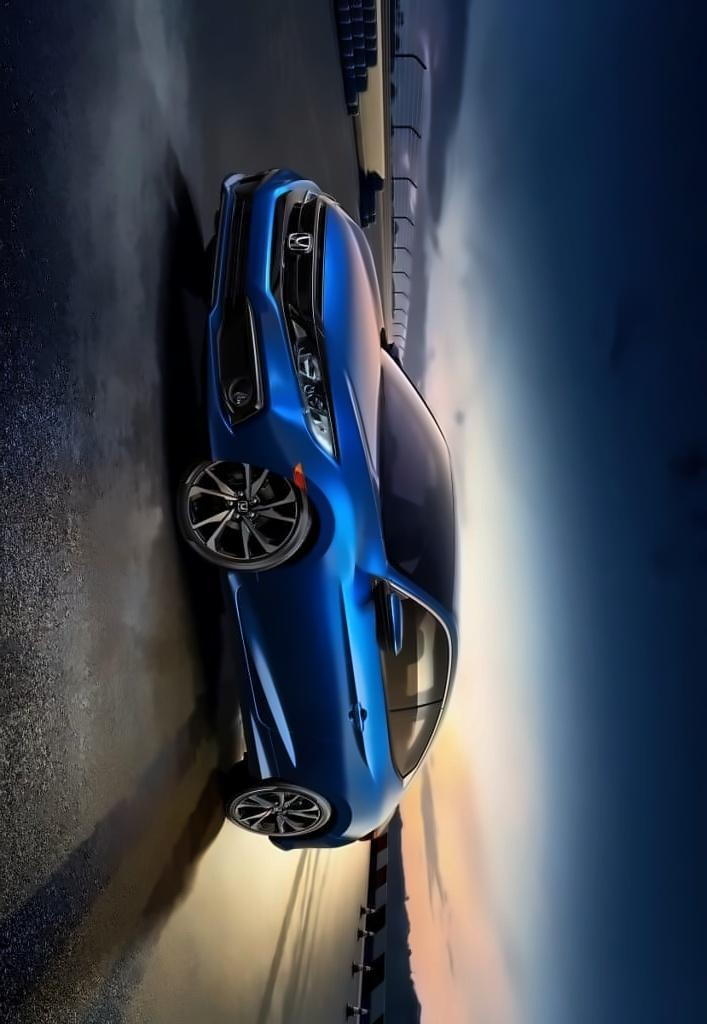Car hood: (313, 189, 384, 508)
Fender - -F-L-: (267, 429, 389, 605)
Fender - -R-L-: (275, 730, 385, 852)
Front bumper: (200, 160, 303, 461)
Headlight - -L-: (281, 304, 340, 468)
Passenger-s door - -F-L-: (218, 581, 457, 746)
Side bumper - -L-: (199, 556, 289, 798)
Side mirror - -L-: (363, 581, 409, 662)
